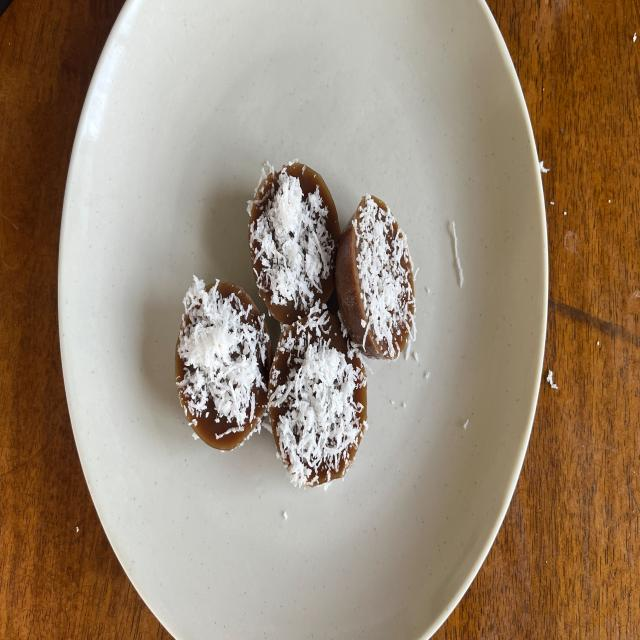Kuih lompang: (268, 304, 366, 487), (175, 276, 271, 451), (249, 162, 340, 324), (335, 196, 415, 360)
